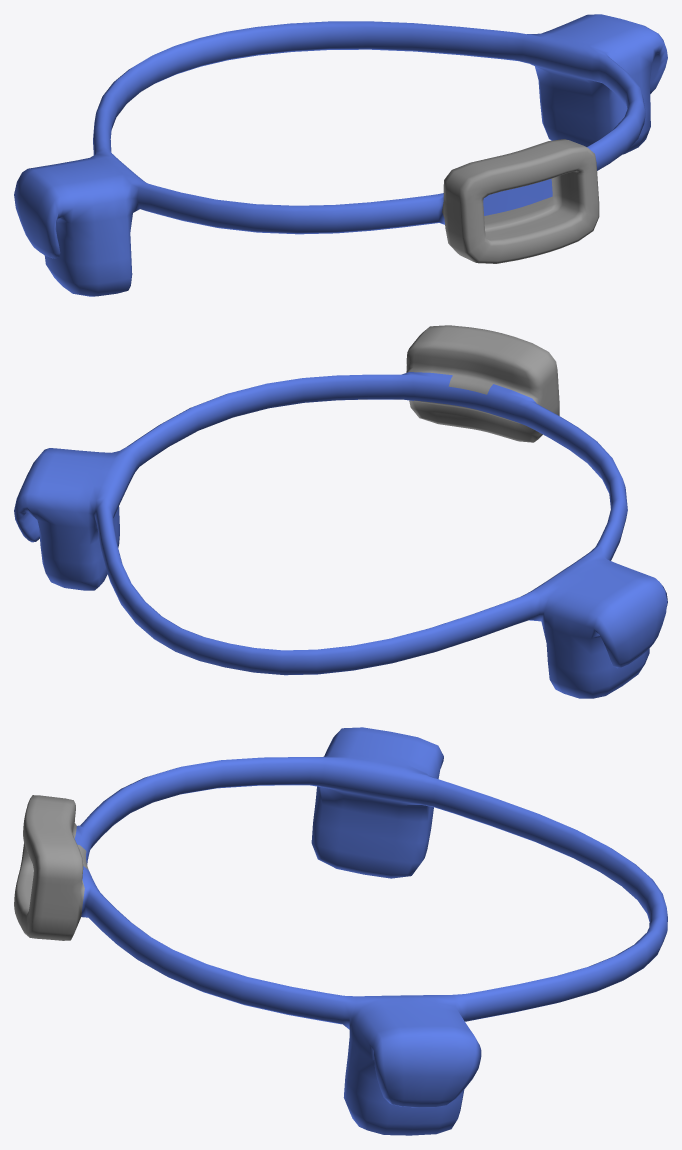
Rendered from cinturon002.fbx.
3 views of the same model, one above another, from view 1: azimuth 30°, elevation 25°; view 2: azimuth 150°, elevation 25°; view 3: azimuth 270°, elevation 25° (orthographic). The views are drawn at different scales.
Visible parts, largest first — view 1: Cube.002; view 2: Cube.002; view 3: Cube.002.
Part boxes in pixels (x1,y1,x2,y2): Cube.002: (14, 14, 667, 296); Cube.002: (14, 325, 667, 698); Cube.002: (14, 727, 667, 1135).
Size of the model in its own units: 112 by 30.49 by 96.54.
